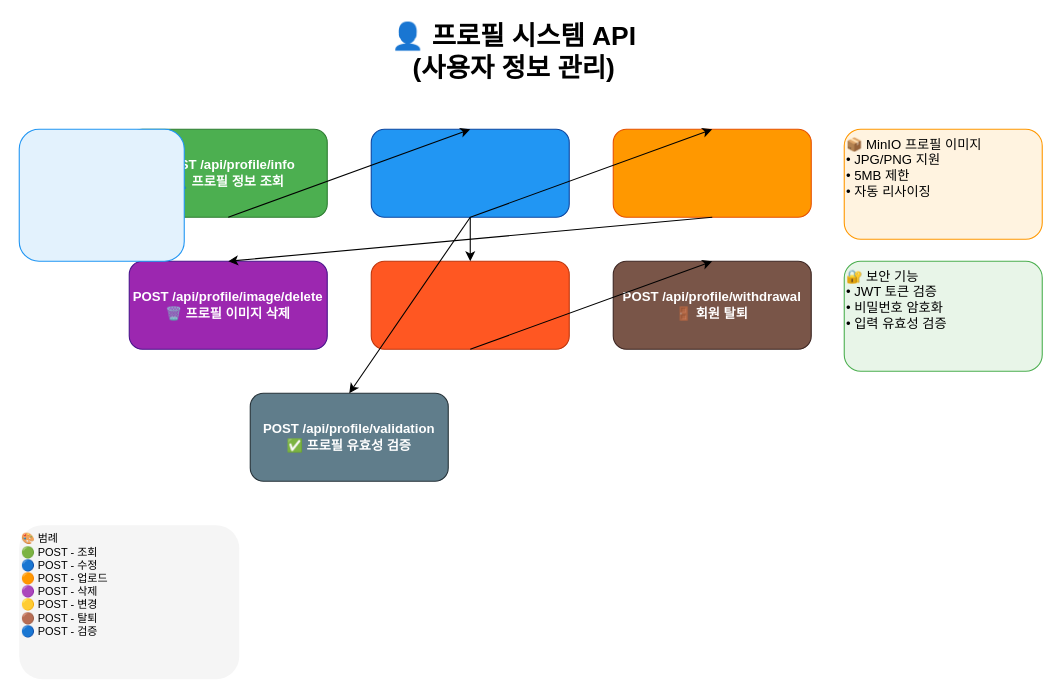
Image size: 1062x697. Some labels were removed from this diagram. The box of each missing label's shape, as (x1, y1, x2, y2) in pixels:
POST /api/profile/image/upload 📸 프로필 이미지 업로드: (612, 128, 811, 217)
POST /api/profile/password/change 🔒 비밀번호 변경: (370, 260, 569, 349)
POST /api/profile/update ✏️ 프로필 정보 수정: (370, 128, 569, 217)
👥 사용자 유형 • 0: 학생 • 1: 교수 • 2: 관리자 • 3: 직원: (18, 128, 184, 261)
